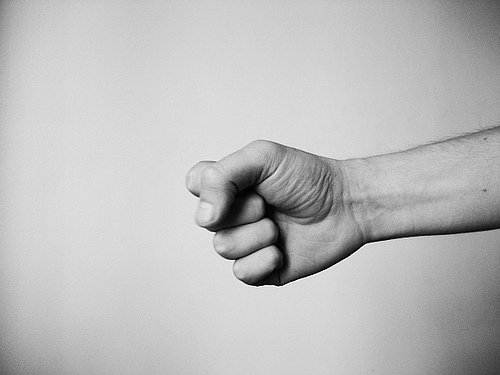fist: (184, 139, 370, 284)
